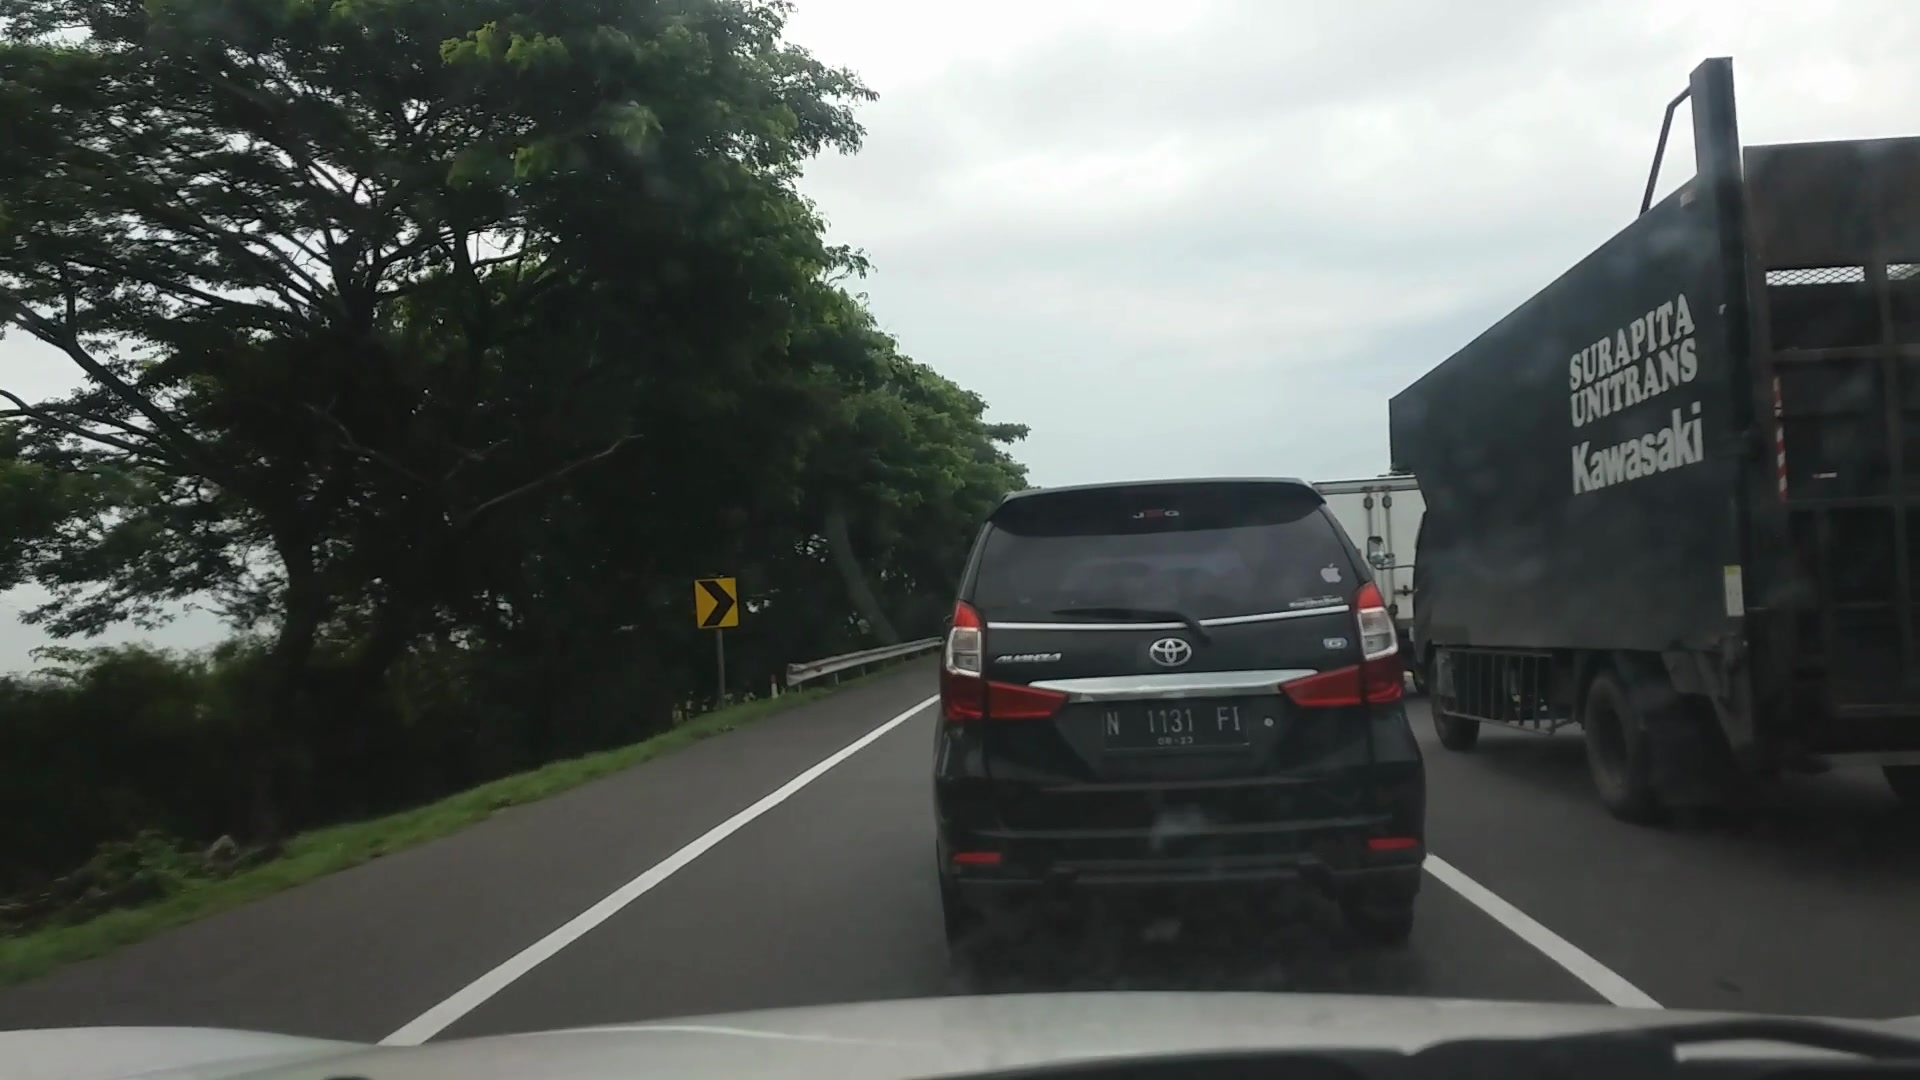plate_positive: (1102, 700, 1247, 748)
